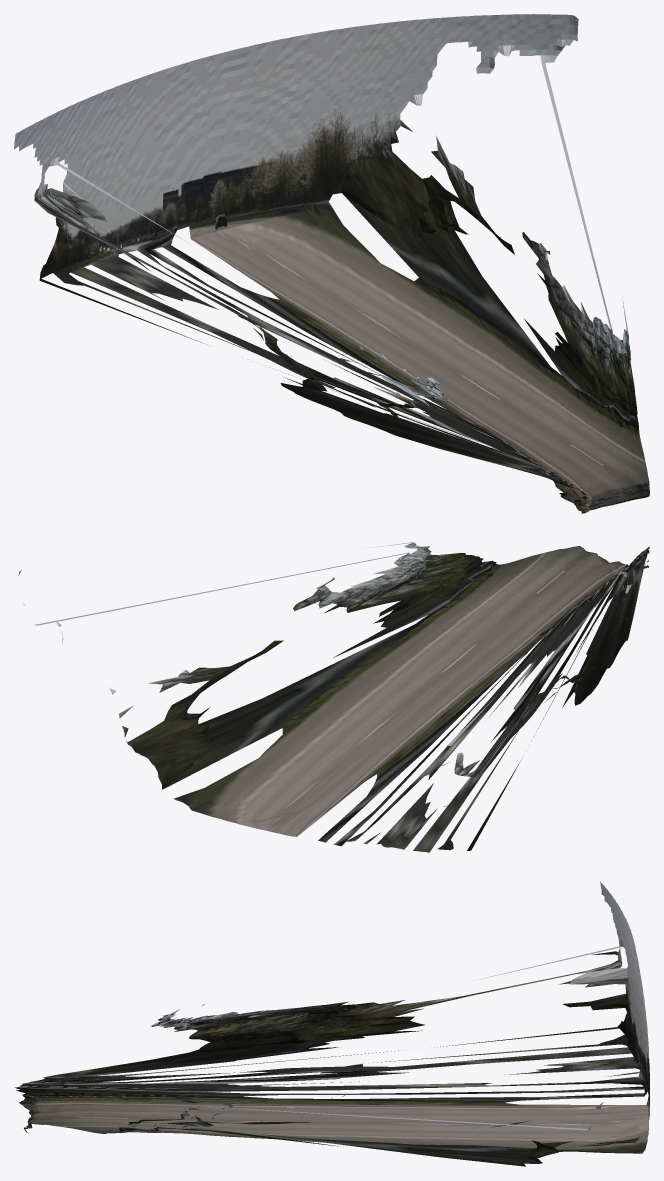
3 renders of one model, top to bottom at view 1: azimuth 30°, elevation 25°; view 2: azimuth 150°, elevation 25°; view 3: azimuth 270°, elevation 25°, orthographic. The views are drawn at different scales.
Visible parts, largest first — view 1: defaultobject; view 2: defaultobject; view 3: defaultobject.
Boxes of the visible parts, box(x1,y1,x2,y2) form: defaultobject: box(14, 14, 649, 513); defaultobject: box(18, 542, 649, 852); defaultobject: box(14, 882, 649, 1166).
Bounding box in the file's own units: 36.62 × 12 × 45.14.
1 material, 1 textured.
